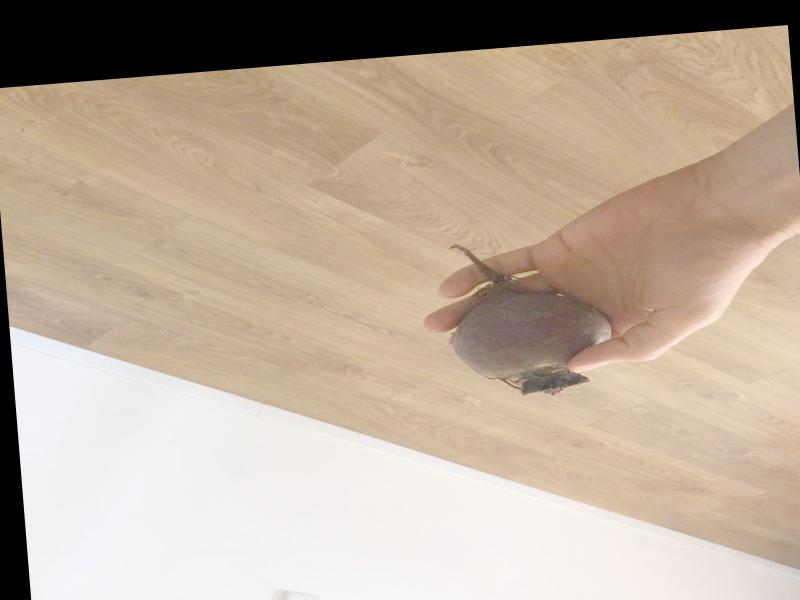Beet: (441, 232, 615, 399)
